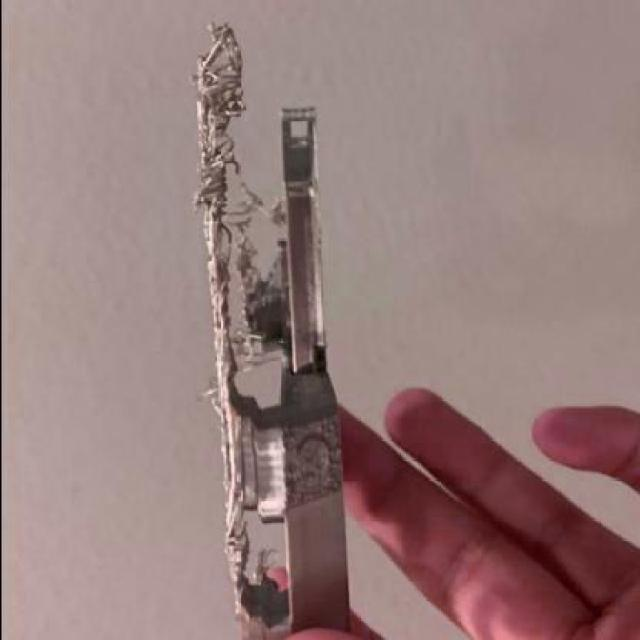Spaghetti: (184, 18, 264, 404), (222, 488, 270, 586)
